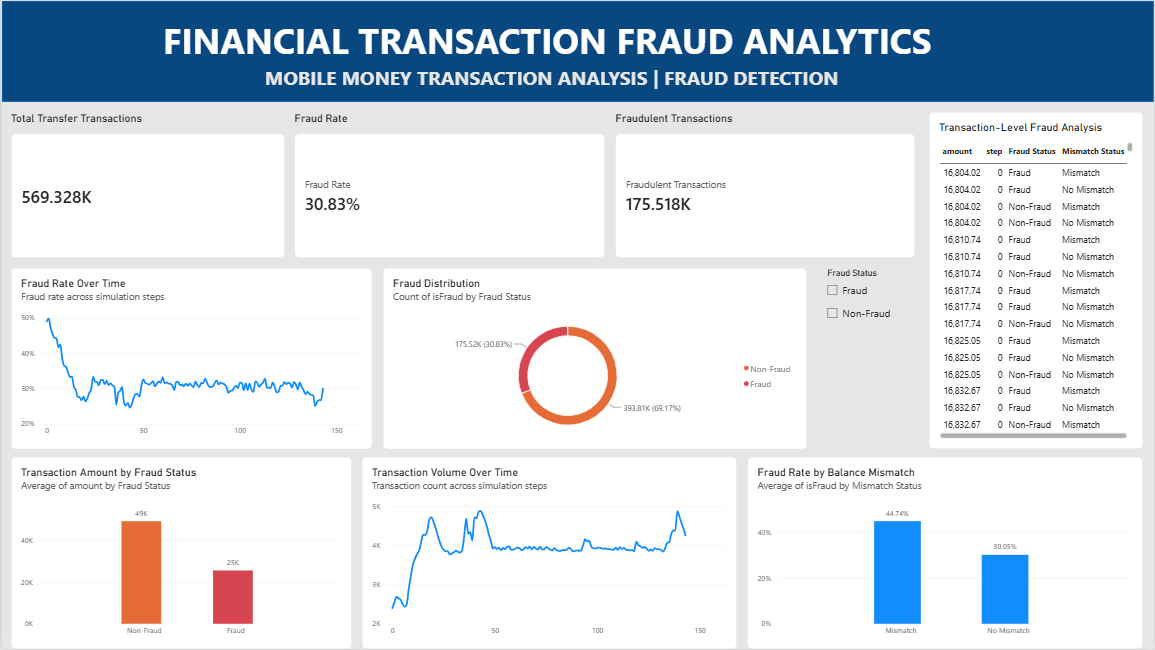

Layout of this report page (visuals, bound fields, positions):
{"tool":"powerbi","page":{"name":"Page 1","canvas":[1920,1080],"ordinal":0},"visuals":[{"type":"cardVisual","title":"Total Transfer Transactions","fields":{"Data":["CountNonNull(fraud_analysis_data.isFraud)"]},"box":[15.9,186.2,456.5,243],"z":0},{"type":"cardVisual","title":"Fraudulent Transactions","fields":{"Data":["CountNonNull(fraud_analysis_data.isFraud)"]},"box":[1022.1,186.2,499.7,243],"z":1000},{"type":"cardVisual","title":"Fraud Rate","fields":{"Data":["Avg(fraud_analysis_data.isFraud)"]},"box":[488.3,186.2,517.9,243],"z":2000},{"type":"donutChart","title":"Fraud Distribution","fields":{"Category":["fraud_analysis_data.Fraud Status"],"Y":["CountNonNull(fraud_analysis_data.isFraud)"]},"box":[636,445.2,706.4,302.1],"z":3000},{"type":"clusteredColumnChart","title":"Transaction Amount by Fraud Status","fields":{"Category":["fraud_analysis_data.Fraud Status"],"Y":["Avg(fraud_analysis_data.amount)"]},"box":[15.9,760.9,567.8,320.3],"z":4000},{"type":"lineChart","title":"Fraud Rate Over Time","fields":{"Category":["fraud_analysis_data.step"],"Y":["Avg(fraud_analysis_data.isFraud)"]},"box":[15.9,445.2,601.9,302.1],"z":5000},{"type":"clusteredColumnChart","title":"Fraud Rate by Balance Mismatch","fields":{"Category":["fraud_analysis_data.Mismatch Status"],"Y":["Avg(fraud_analysis_data.isFraud)"]},"box":[1242.4,760.9,658.7,320.3],"z":6000},{"type":"lineChart","title":"Transaction Volume Over Time","fields":{"Category":["fraud_analysis_data.step"],"Y":["CountNonNull(fraud_analysis_data.isFraud)"]},"box":[599.6,760.9,624.6,320.3],"z":7000},{"type":"slicer","fields":{"Values":["fraud_analysis_data.Fraud Status"]},"box":[1367.3,445.2,154.4,245.3],"z":8000},{"type":"tableEx","title":"Transaction-Level Fraud Analysis","fields":{"Values":["fraud_analysis_data.amount","fraud_analysis_data.step","fraud_analysis_data.Fraud Status","fraud_analysis_data.Mismatch Status"]},"box":[1544.5,186.2,356.6,561],"z":9000},{"type":"actionButton","box":[0,0,100,40],"z":10000},{"type":"shape","box":[0,0,1919.3,168.1],"z":11000},{"type":"textbox","box":[50,20.4,1814.8,129.5],"z":12000}]}

Visuals, with their boxes in screenshot pixels (x1, y1, x2, y2), scaled from the page's 1920x1080 canvas onto the 1155x650 screenshot:
"Total Transfer Transactions" cardVisual: 10:112:284:258
"Fraudulent Transactions" cardVisual: 615:112:915:258
"Fraud Rate" cardVisual: 294:112:605:258
"Fraud Distribution" donutChart: 383:268:808:450
"Transaction Amount by Fraud Status" clusteredColumnChart: 10:458:351:649
"Fraud Rate Over Time" lineChart: 10:268:372:450
"Fraud Rate by Balance Mismatch" clusteredColumnChart: 747:458:1144:649
"Transaction Volume Over Time" lineChart: 361:458:736:649
slicer - fraud_analysis_data.Fraud Status: 823:268:915:416
"Transaction-Level Fraud Analysis" tableEx: 929:112:1144:450
actionButton: 0:0:60:24
shape: 0:0:1154:101
textbox: 30:12:1122:90
